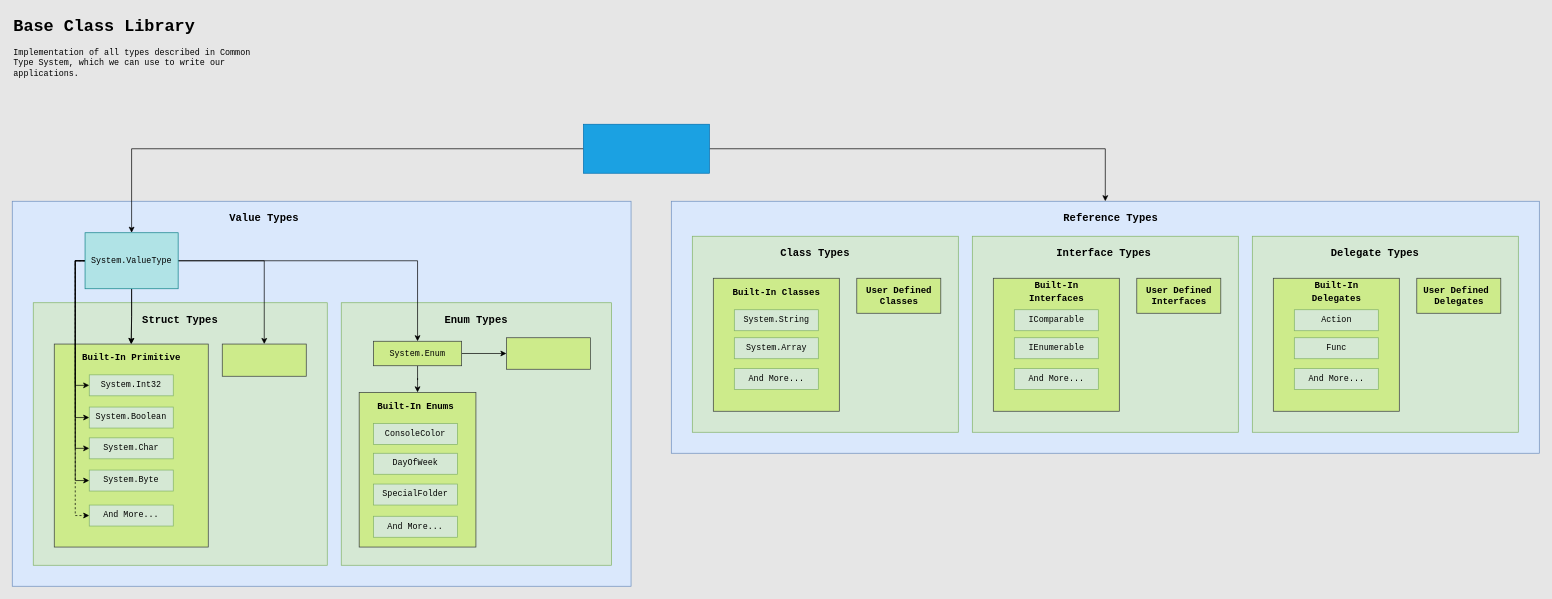
This 1552x599 diagram has some shape labels left out. Here are the shapes that lost their labels. From the top down, the box of each, then its label:
(583, 124, 709, 173): System.Object
(222, 343, 306, 376): User Defined Structs
(506, 337, 590, 369): User Defined Enums
